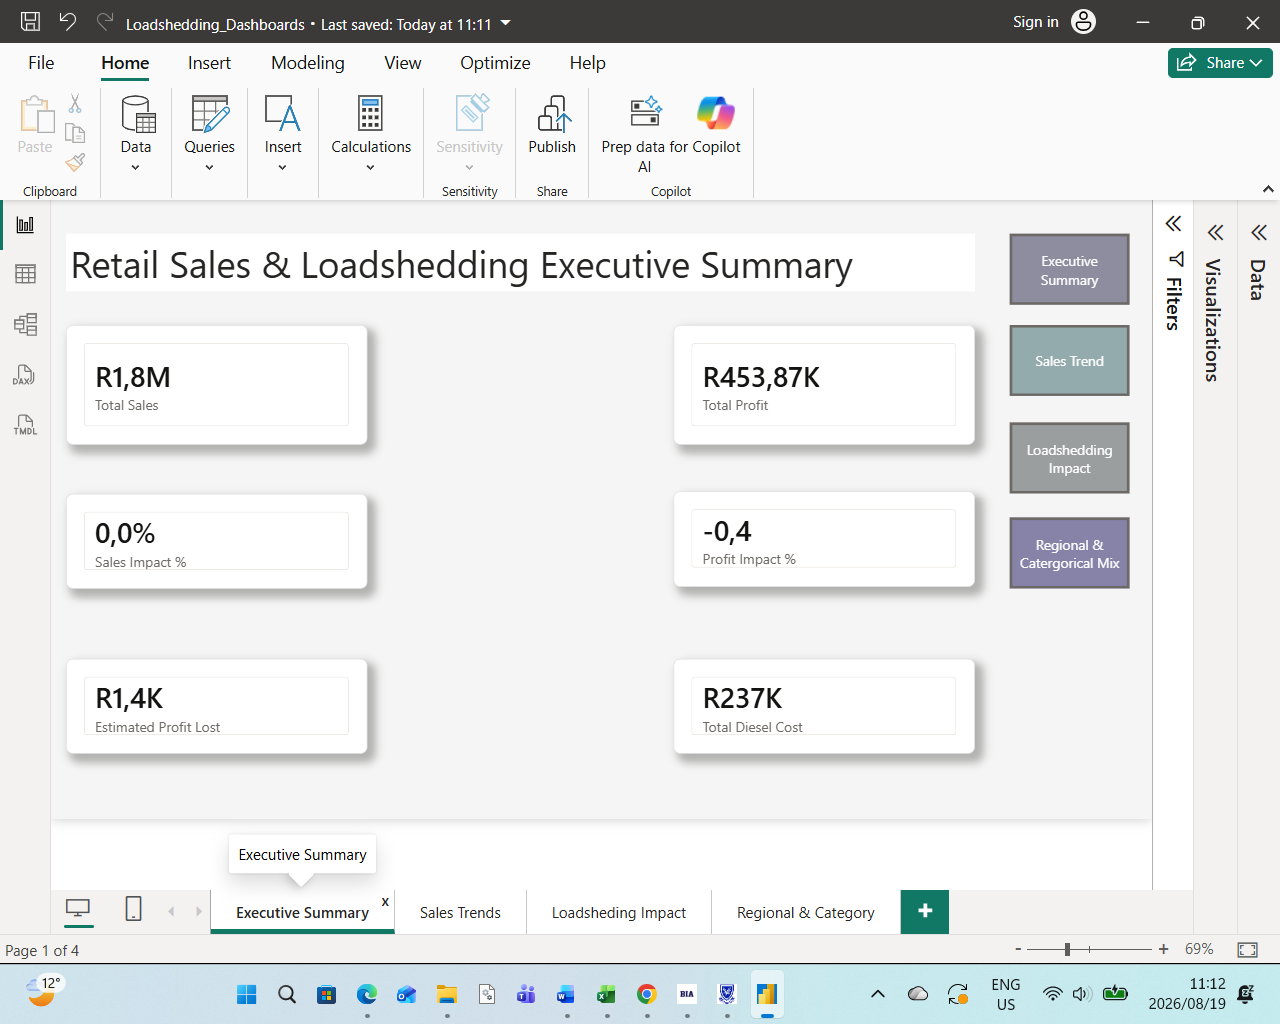

The page's visual inventory and layout, read from the dashboard file:
{"tool":"powerbi","page":{"name":"Executive Summary","canvas":[1280,720],"ordinal":0},"visuals":[{"type":"cardVisual","fields":{"Data":["vw_dashboard_base.Total Sales"]},"box":[17.4,145.7,350,139.1],"z":0},{"type":"cardVisual","fields":{"Data":["vw_dashboard_base.Total Profit"]},"box":[723.9,145.7,350,139.1],"z":1000},{"type":"cardVisual","fields":{"Data":["Sum(vw_executive_summary.pct_sales_impact)"]},"box":[17.4,341.3,350,110],"z":2000},{"type":"cardVisual","title":"Profit Impact %","fields":{"Data":["Sum(vw_executive_summary.pct_profit_impact)"]},"box":[723.9,339.1,350,110.9],"z":3000},{"type":"cardVisual","fields":{"Data":["vw_dashboard_base.Total Diesel Cost"]},"box":[723.9,532.6,350,110],"z":4000},{"type":"cardVisual","fields":{"Data":["Sum(vw_executive_summary.estimated_total_profit_lost)"]},"box":[17.4,532.6,350,110],"z":5000},{"type":"textbox","box":[17.4,39.1,1056.5,67.4],"z":6000},{"type":"actionButton","box":[1115.2,39.1,139.1,82.6],"z":7000},{"type":"actionButton","box":[1115.2,145.7,139.1,82.6],"z":8000},{"type":"actionButton","box":[1115.2,258.7,139.1,82.6],"z":9000},{"type":"actionButton","box":[1115.2,369.6,139.1,82.6],"z":10000}]}

Visuals, with their boxes on the page's 1280x720 design canvas (x1, y1, x2, y2). These are canvas units, not pixel positions in the 1280x1024 screenshot, which may show the page scaled, cropped or inside an application window:
cardVisual - vw_dashboard_base.Total Sales: (x1=17, y1=146, x2=367, y2=285)
cardVisual - vw_dashboard_base.Total Profit: (x1=724, y1=146, x2=1074, y2=285)
cardVisual - Sum(vw_executive_summary.pct_sales_impact): (x1=17, y1=341, x2=367, y2=451)
"Profit Impact %" cardVisual: (x1=724, y1=339, x2=1074, y2=450)
cardVisual - vw_dashboard_base.Total Diesel Cost: (x1=724, y1=533, x2=1074, y2=643)
cardVisual - Sum(vw_executive_summary.estimated_total_profit_lost): (x1=17, y1=533, x2=367, y2=643)
textbox: (x1=17, y1=39, x2=1074, y2=106)
actionButton: (x1=1115, y1=39, x2=1254, y2=122)
actionButton: (x1=1115, y1=146, x2=1254, y2=228)
actionButton: (x1=1115, y1=259, x2=1254, y2=341)
actionButton: (x1=1115, y1=370, x2=1254, y2=452)
